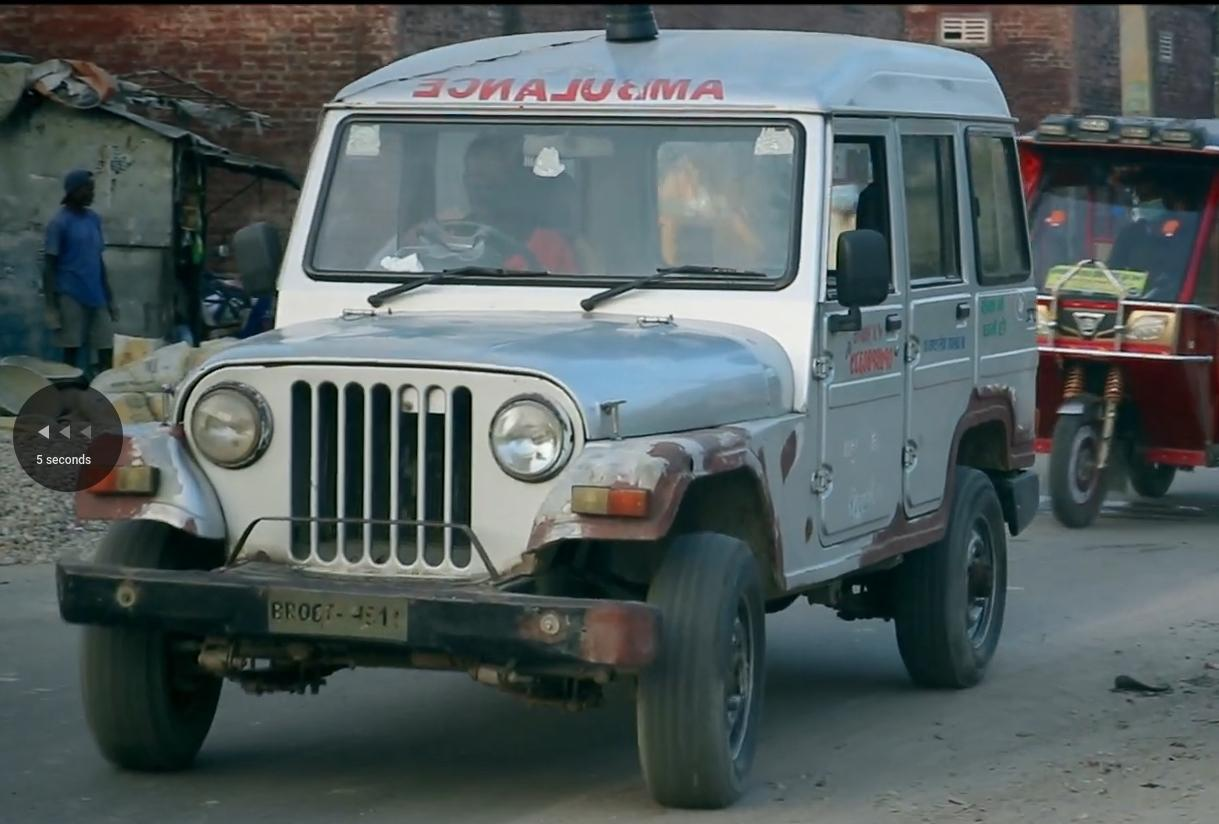ambulance: (47, 0, 1062, 795)
e-rickshaw: (1004, 96, 1219, 535)
